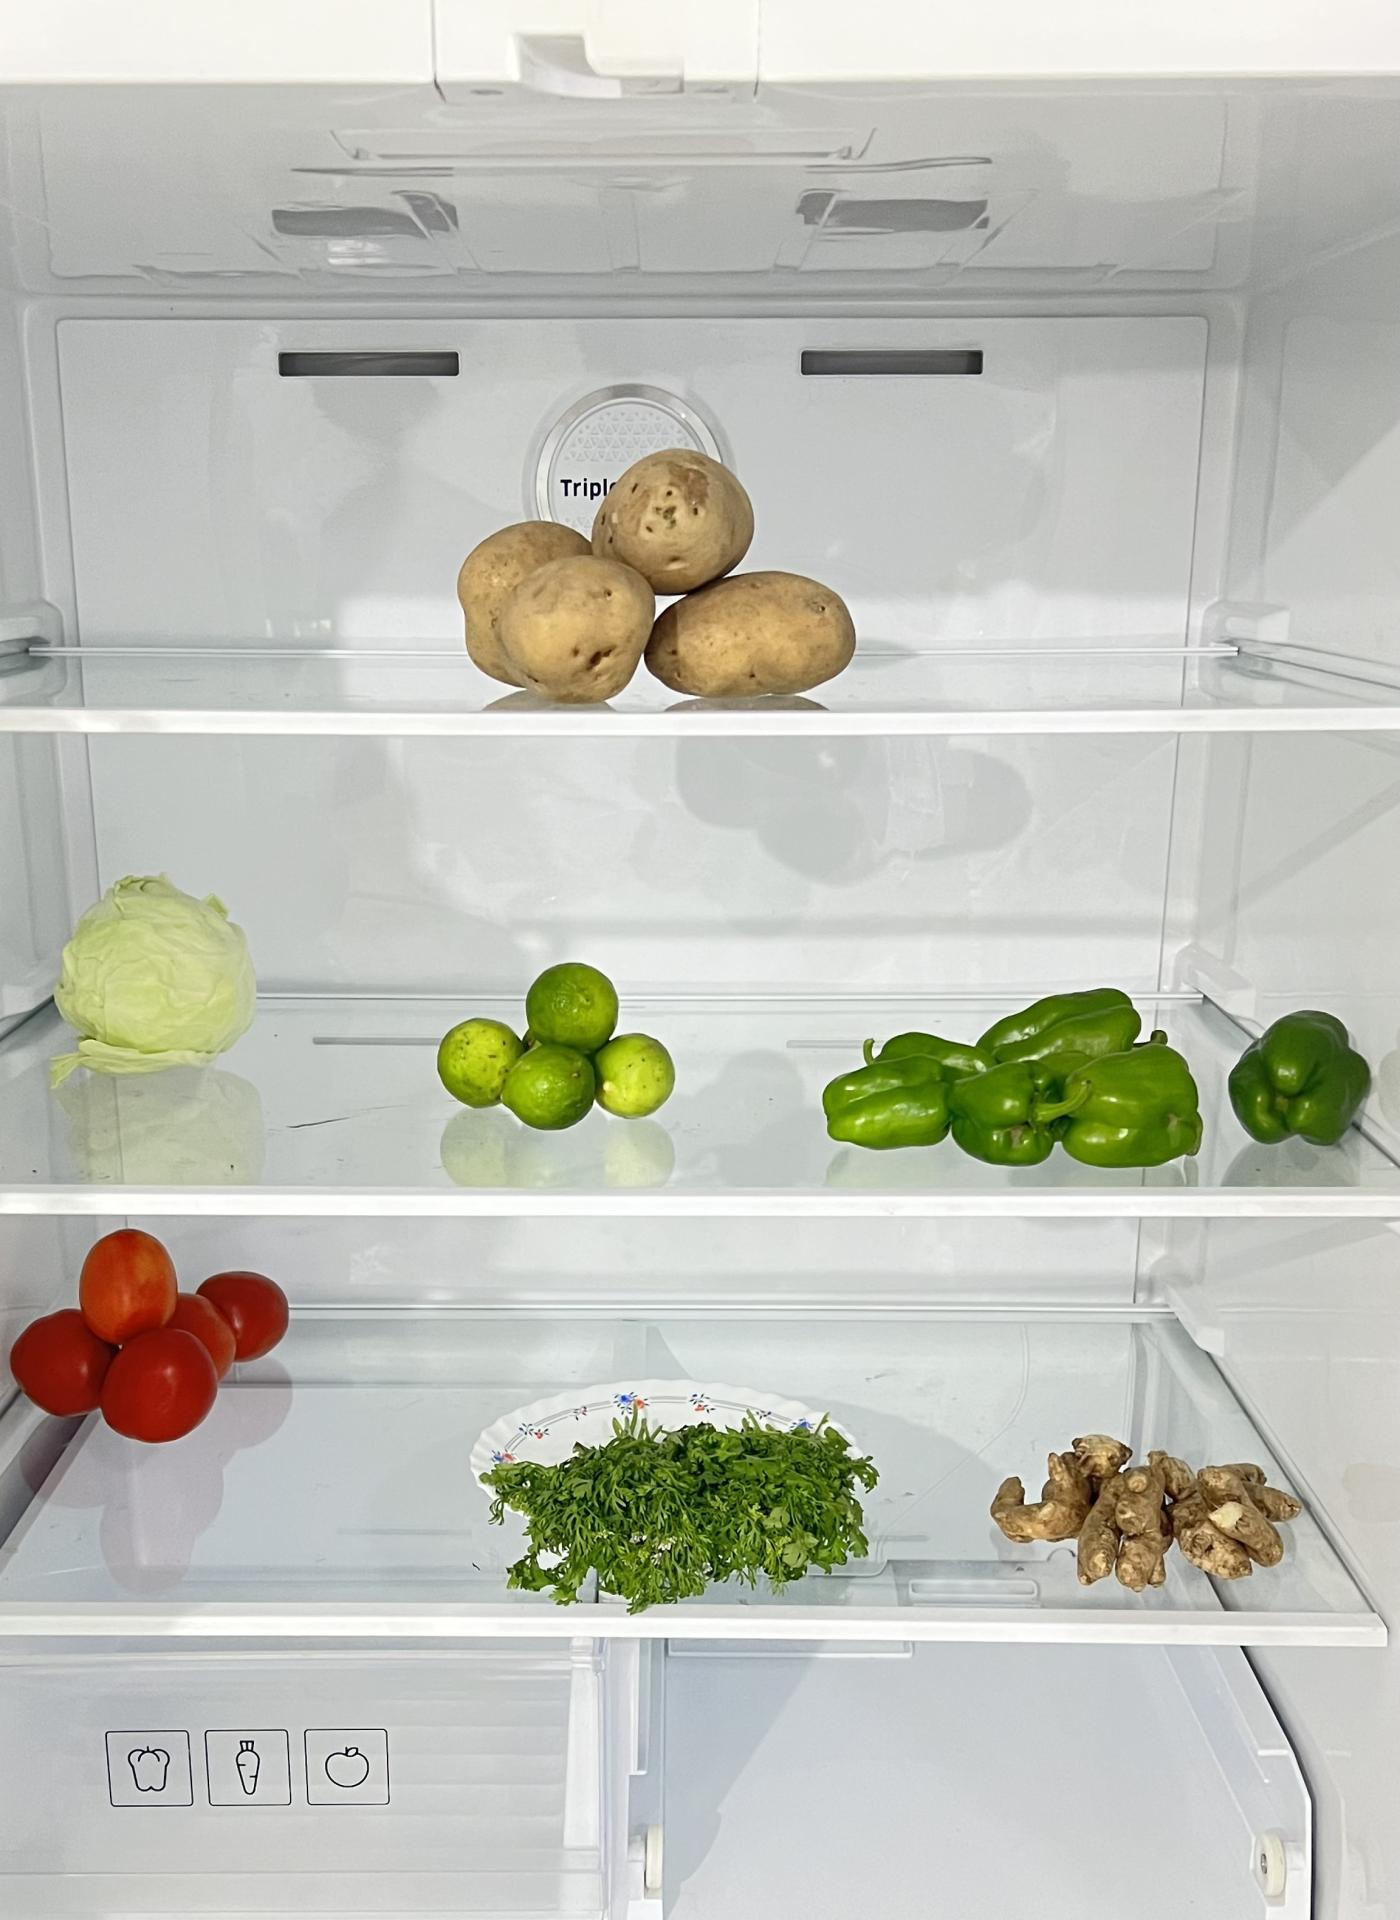cabbage: (52, 871, 259, 1066)
capsicum: (822, 979, 1366, 1163)
coriander: (485, 1407, 868, 1597)
ginger: (993, 1424, 1299, 1591)
lemon: (432, 961, 668, 1133)
potato: (452, 443, 856, 707)
tomato: (16, 1230, 288, 1437)
